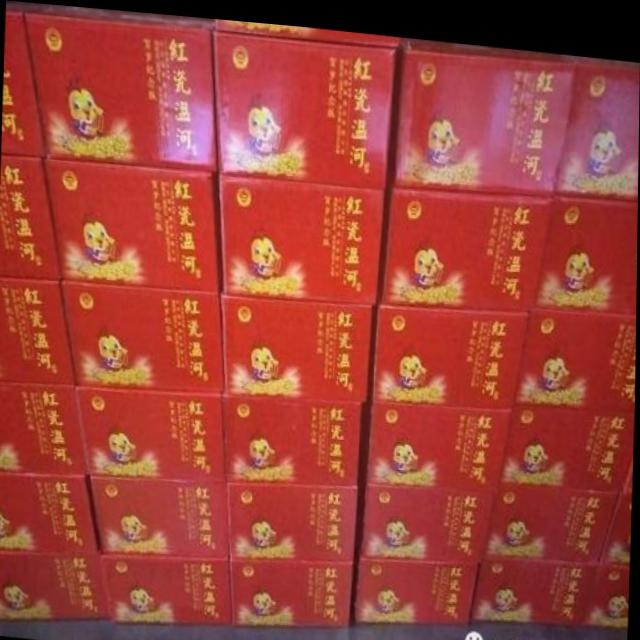box: (24, 2, 220, 171), (216, 16, 401, 184), (393, 32, 576, 185), (46, 157, 221, 289), (214, 168, 389, 299), (378, 179, 559, 301), (64, 280, 224, 387), (366, 298, 531, 399), (223, 288, 376, 396), (75, 378, 228, 477), (366, 392, 513, 478), (517, 297, 637, 402), (225, 388, 364, 476), (556, 45, 640, 186), (89, 471, 231, 553), (502, 392, 634, 478), (538, 186, 638, 299), (356, 474, 501, 548), (484, 471, 618, 551), (231, 473, 358, 554), (353, 544, 484, 614), (470, 546, 601, 612), (102, 551, 234, 616), (0, 472, 104, 552), (230, 549, 354, 616), (0, 378, 88, 472), (0, 274, 75, 383), (0, 150, 60, 277), (0, 549, 114, 615), (2, 0, 46, 159), (581, 550, 630, 616), (603, 478, 632, 553), (624, 401, 634, 478)
